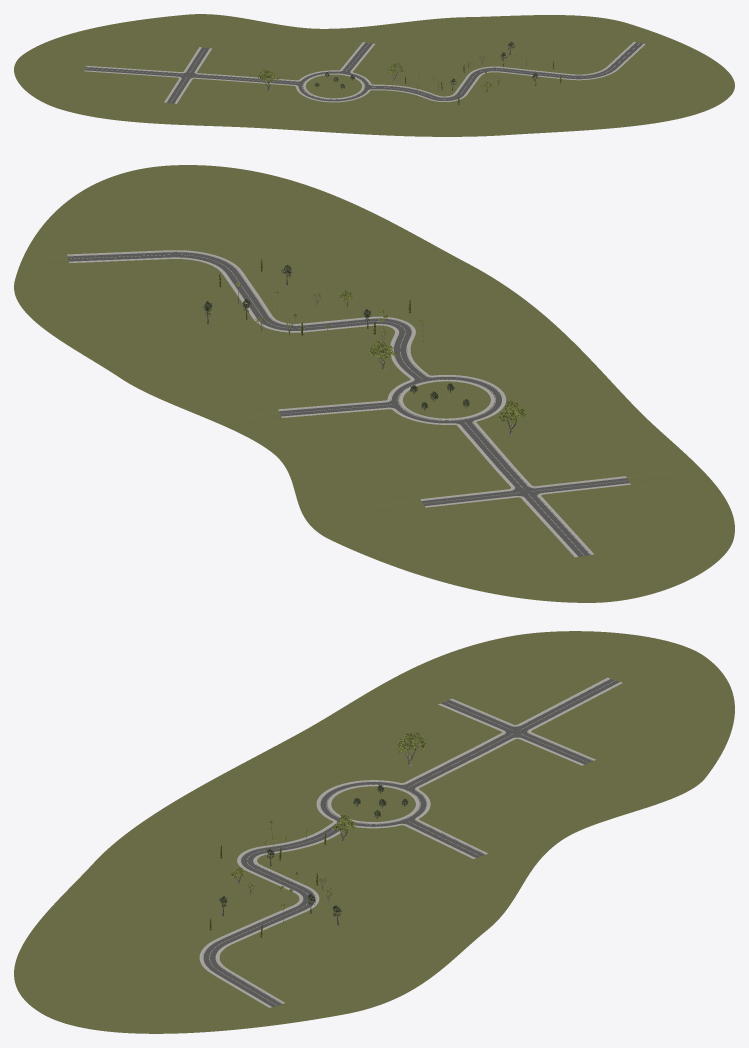
File: testScene.fbx
3 views of the same model, one above another, from view 1: azimuth 30°, elevation 25°; view 2: azimuth 150°, elevation 25°; view 3: azimuth 270°, elevation 25° (orthographic). The views are drawn at different scales.
Visible parts, largest first — view 1: TerrainNode, RoadsNode; view 2: TerrainNode, RoadsNode; view 3: TerrainNode, RoadsNode.
Part boxes in pixels (x1,y1,x2,y2): TerrainNode: [14, 14, 734, 136]; RoadsNode: [84, 42, 645, 103]; TerrainNode: [14, 165, 734, 602]; RoadsNode: [67, 250, 630, 557]; TerrainNode: [14, 631, 734, 1033]; RoadsNode: [199, 677, 622, 1007].
Bounding box in the file's own units: 633 × 479 × 24.38.
Materials: 19 (19 with a texture image).
